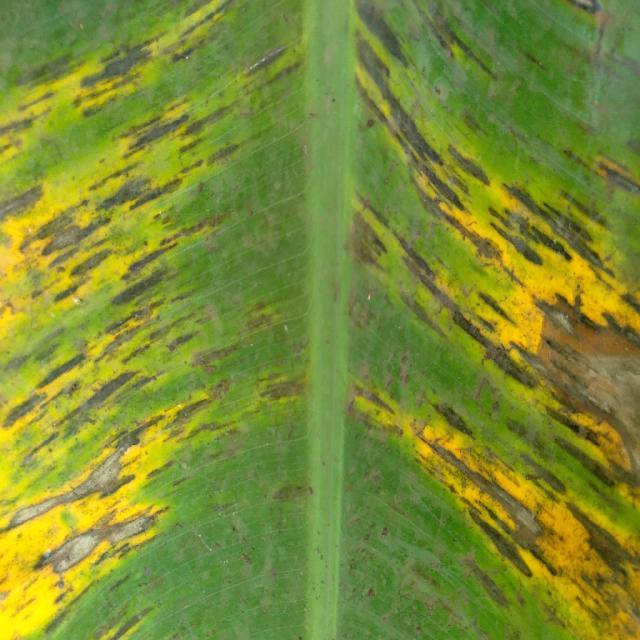Early_rust: (343, 0, 640, 640), (0, 0, 291, 640)
